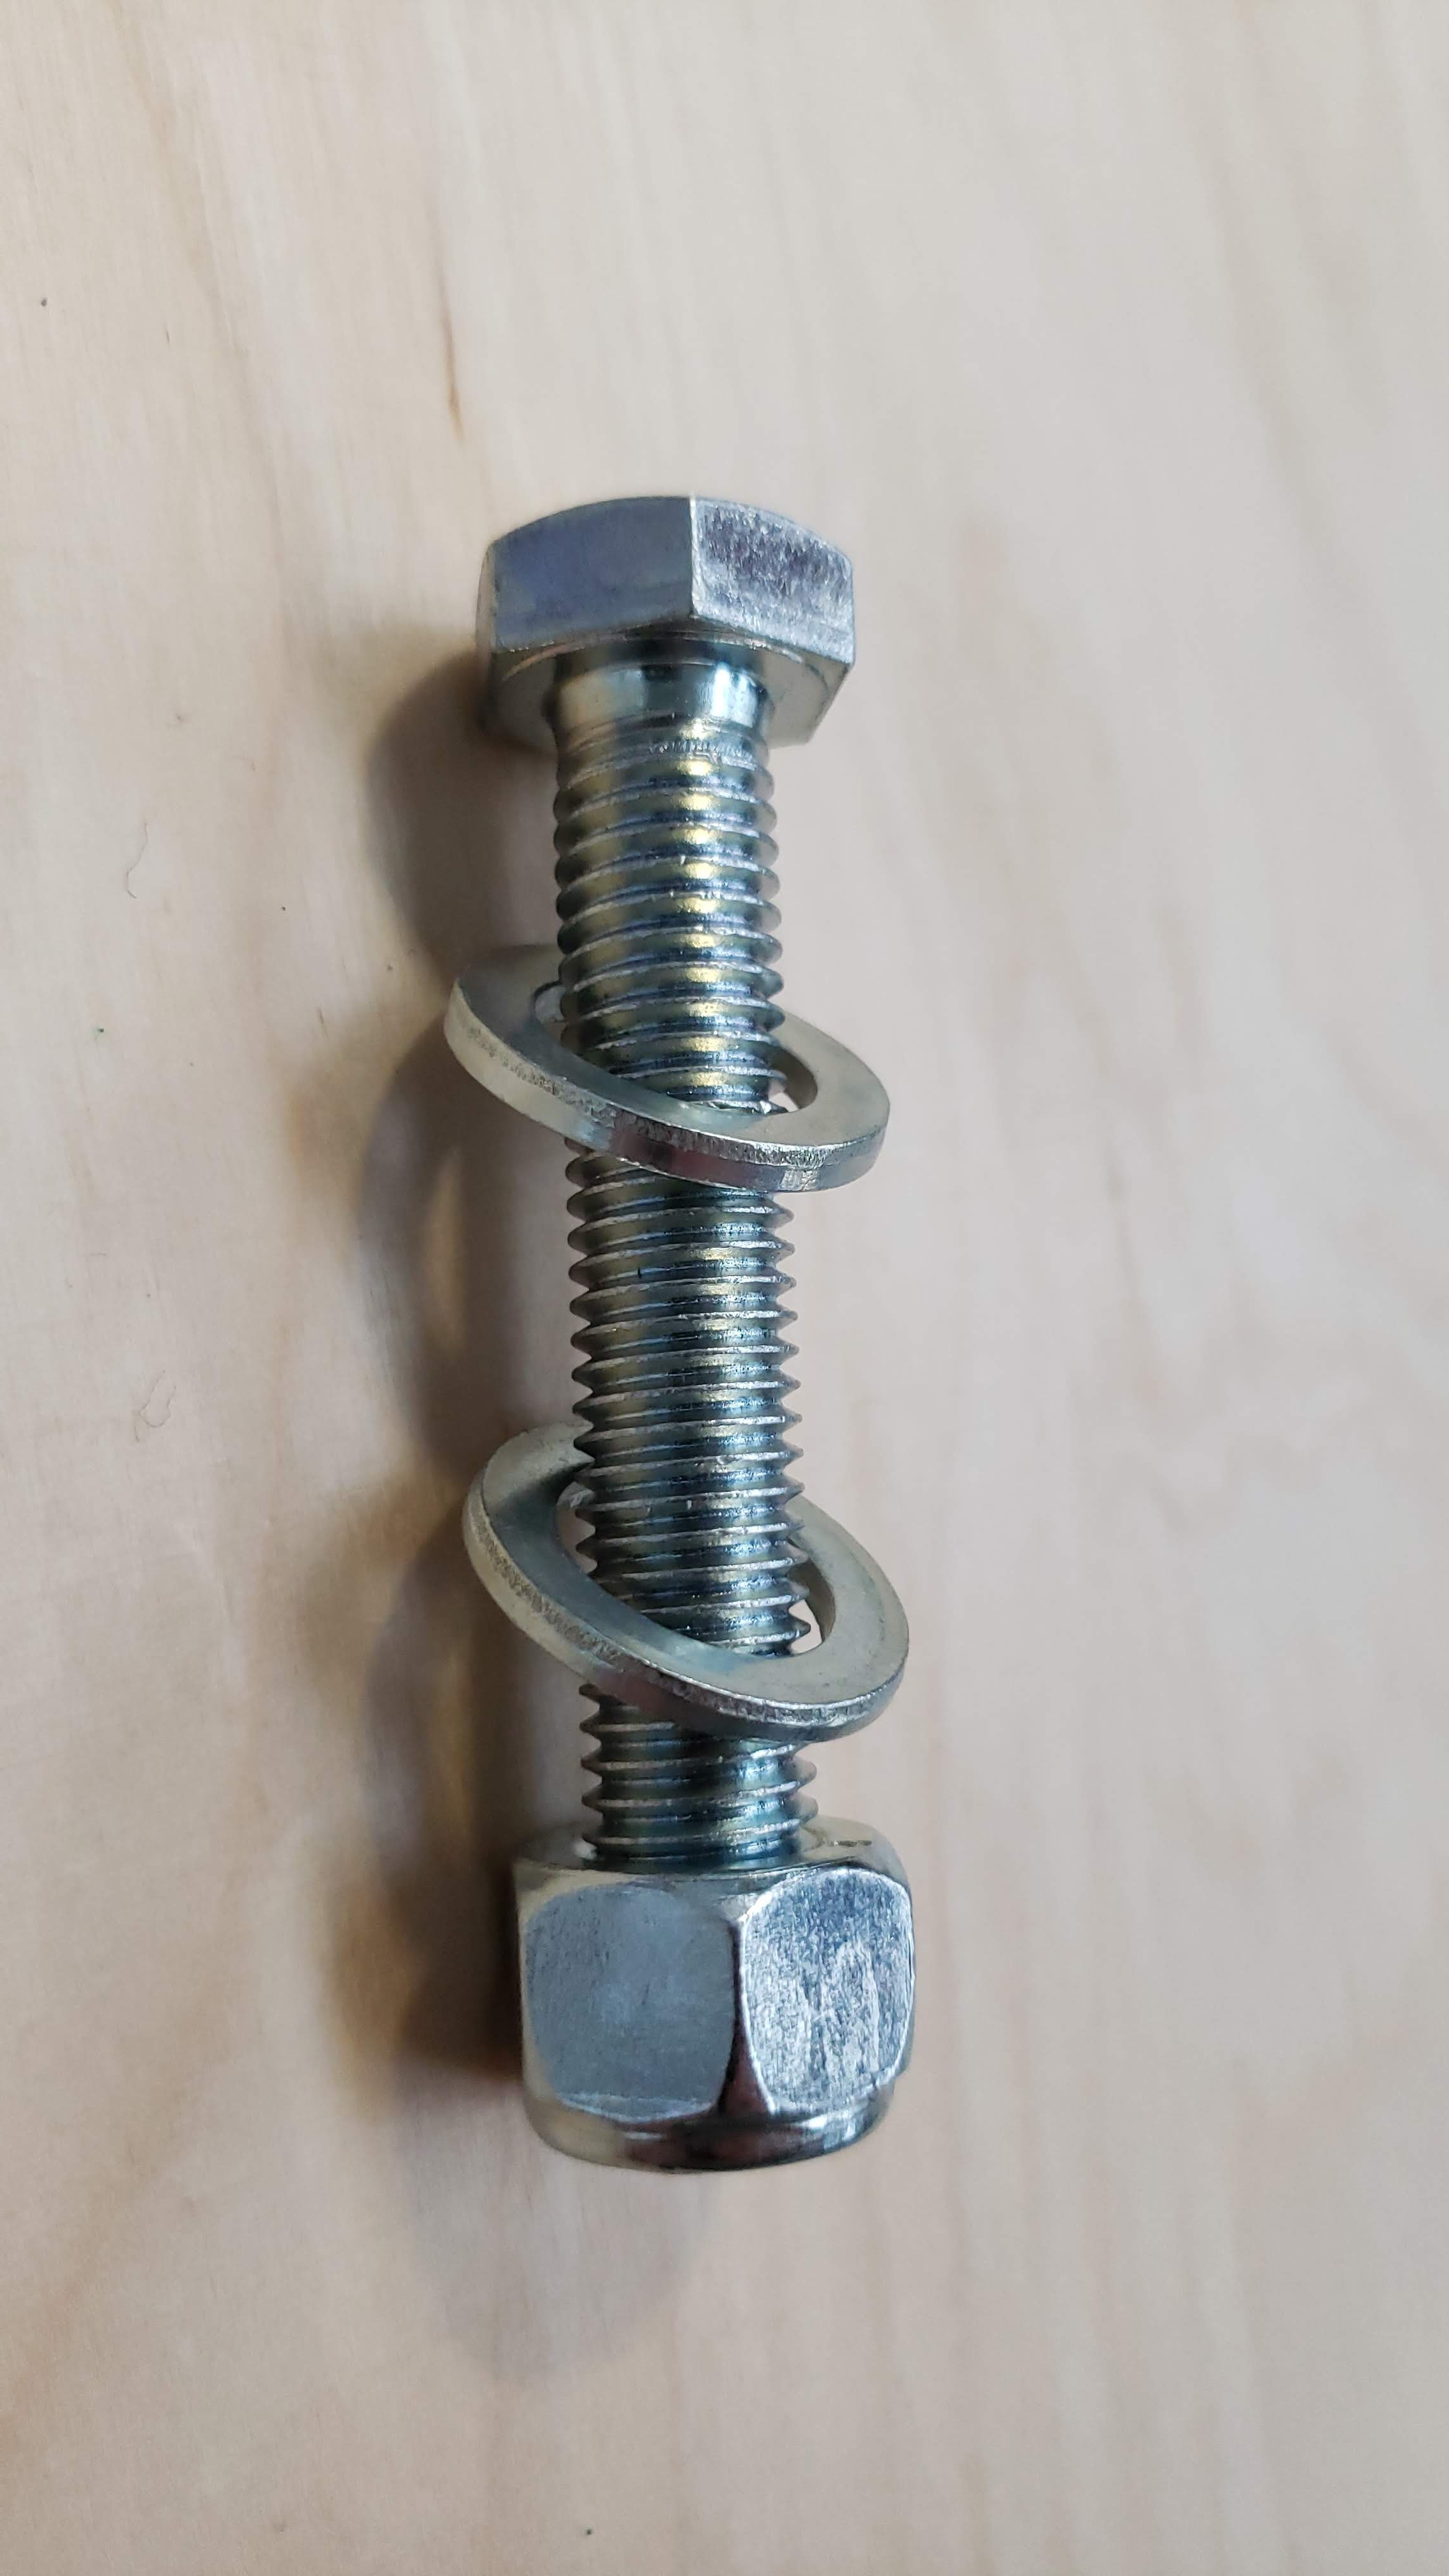FinishedAssembly: (340, 414, 1005, 2272)
